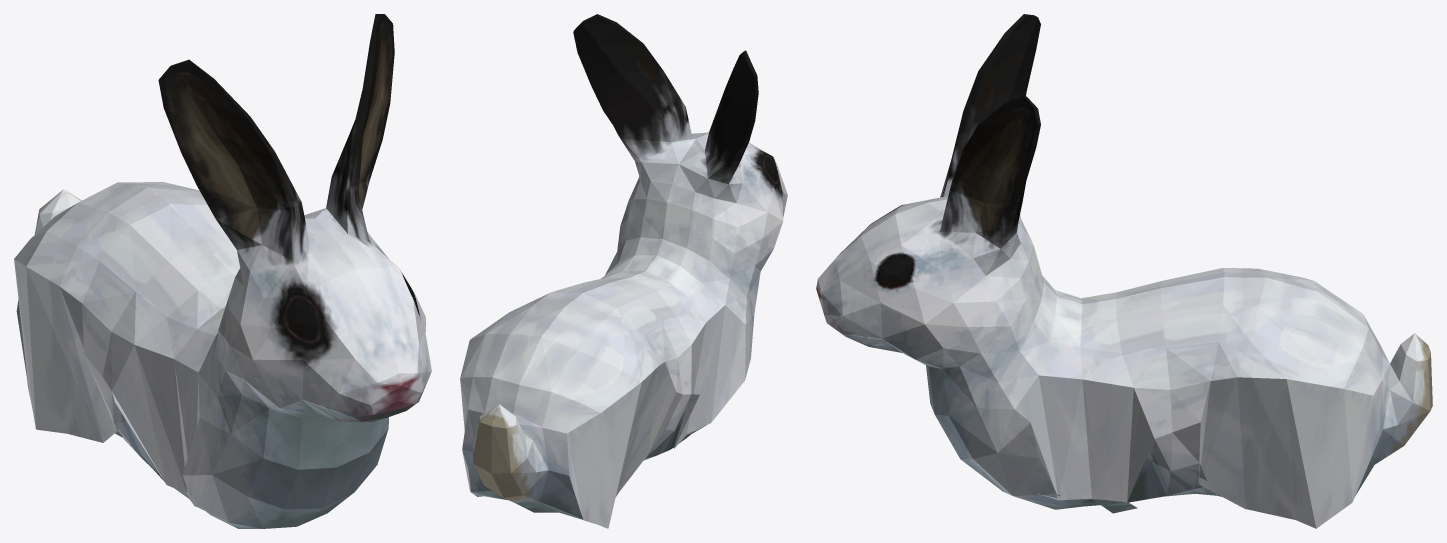
File: Cuerpo_Conejo.obj
3 renders of one model, left to right at view 1: azimuth 30°, elevation 25°; view 2: azimuth 150°, elevation 25°; view 3: azimuth 270°, elevation 25°, orthographic. The views are drawn at different scales.
Visible parts, largest first — view 1: Cuerpo_ConejopolySurface20polySurface18polySurface16polySurface1; view 2: Cuerpo_ConejopolySurface20polySurface18polySurface16polySurface1; view 3: Cuerpo_ConejopolySurface20polySurface18polySurface16polySurface1.
Part boxes in pixels (box(x1,y1,x2,y2)): Cuerpo_ConejopolySurface20polySurface18polySurface16polySurface1: box(14, 14, 431, 528); Cuerpo_ConejopolySurface20polySurface18polySurface16polySurface1: box(460, 14, 787, 528); Cuerpo_ConejopolySurface20polySurface18polySurface16polySurface1: box(816, 14, 1432, 528).
Bounding box in the file's own units: 0.1456 × 0.2982 × 0.3739.
1 material, 1 textured.
